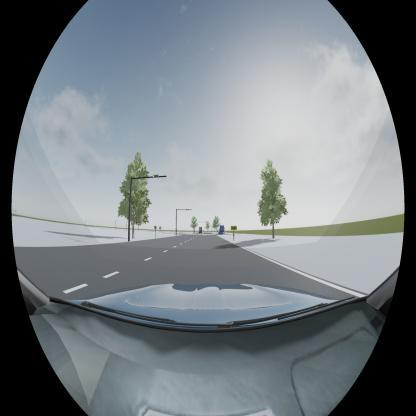Green Light: (152, 174, 159, 178)
Red Light: (186, 209, 189, 210)
